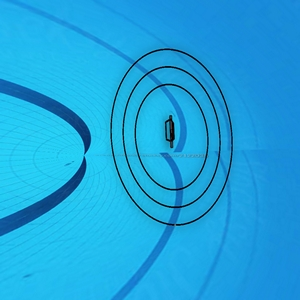circle: (103, 45, 234, 232)
submarine: (162, 118, 177, 143)
